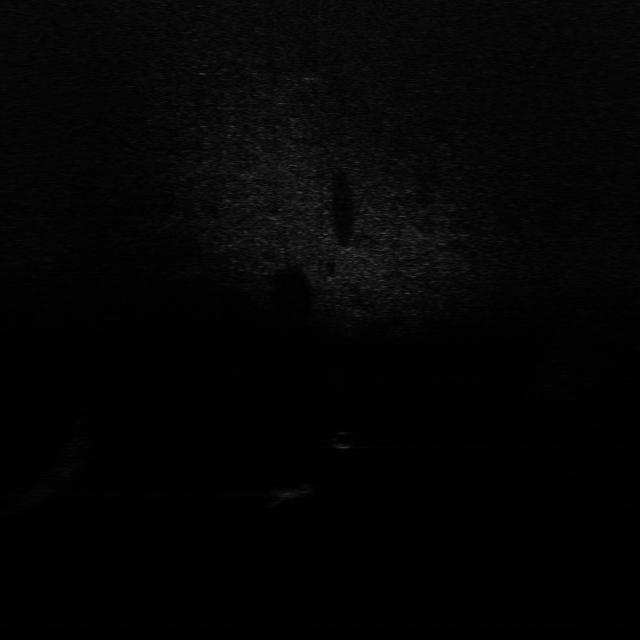ball: (328, 428, 361, 451)
square cage: (267, 480, 319, 500)
